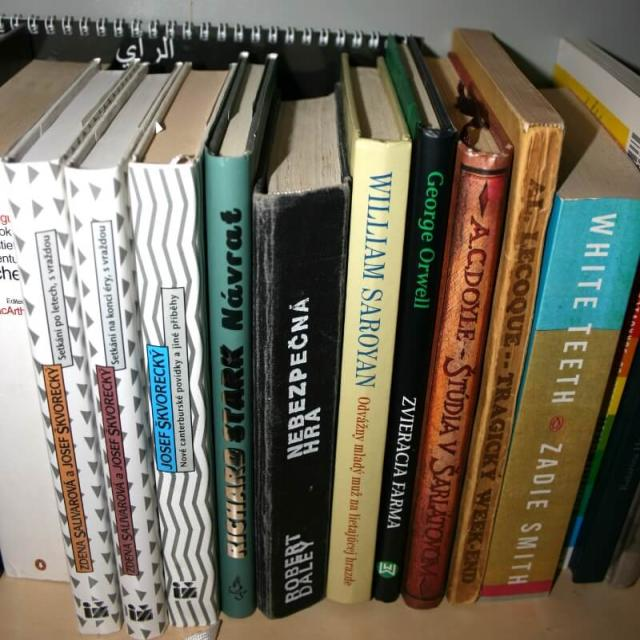book-spines: (480, 202, 640, 599), (3, 163, 120, 635), (449, 124, 564, 604), (405, 151, 512, 609), (60, 167, 158, 638), (128, 160, 217, 624), (371, 131, 457, 601), (254, 186, 346, 618), (326, 139, 411, 604), (204, 152, 252, 616)
